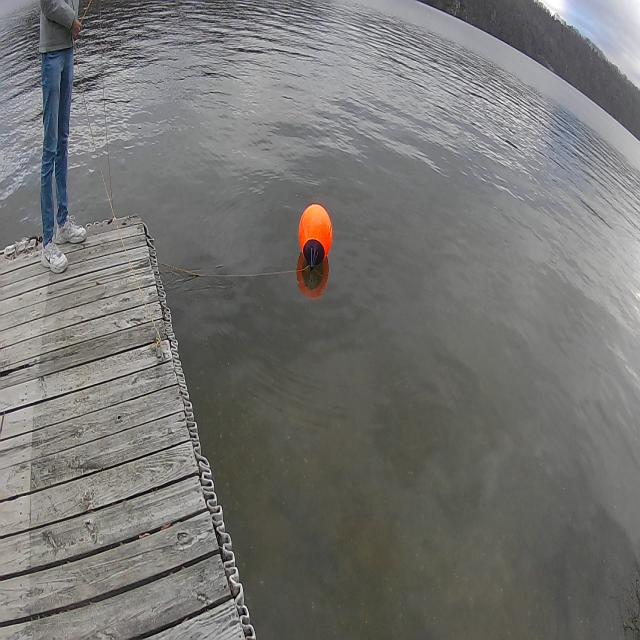Buoy: (296, 200, 334, 278)
